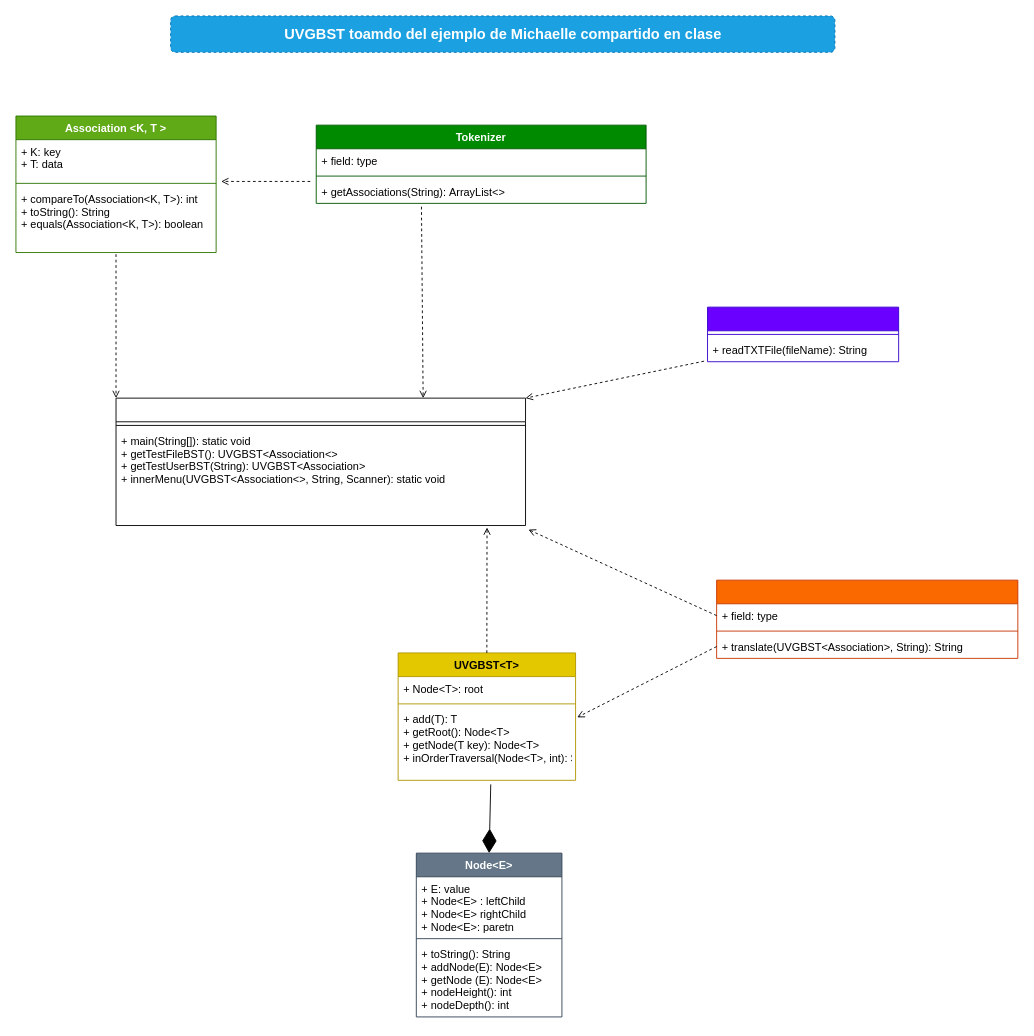
This 1034x1036 diagram has some shape labels left out. The shapes that lost their labels are listed below. From the top down, each one's box as (x1, y1, x2, y2) in pixels, then its label:
(707, 306, 899, 362): FileManager
(115, 397, 526, 526): App
(716, 579, 1018, 658): Translator
